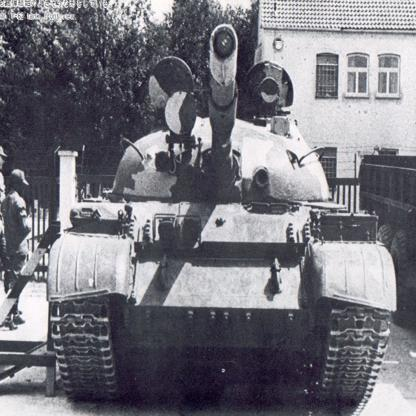Tank: (41, 22, 398, 408)
